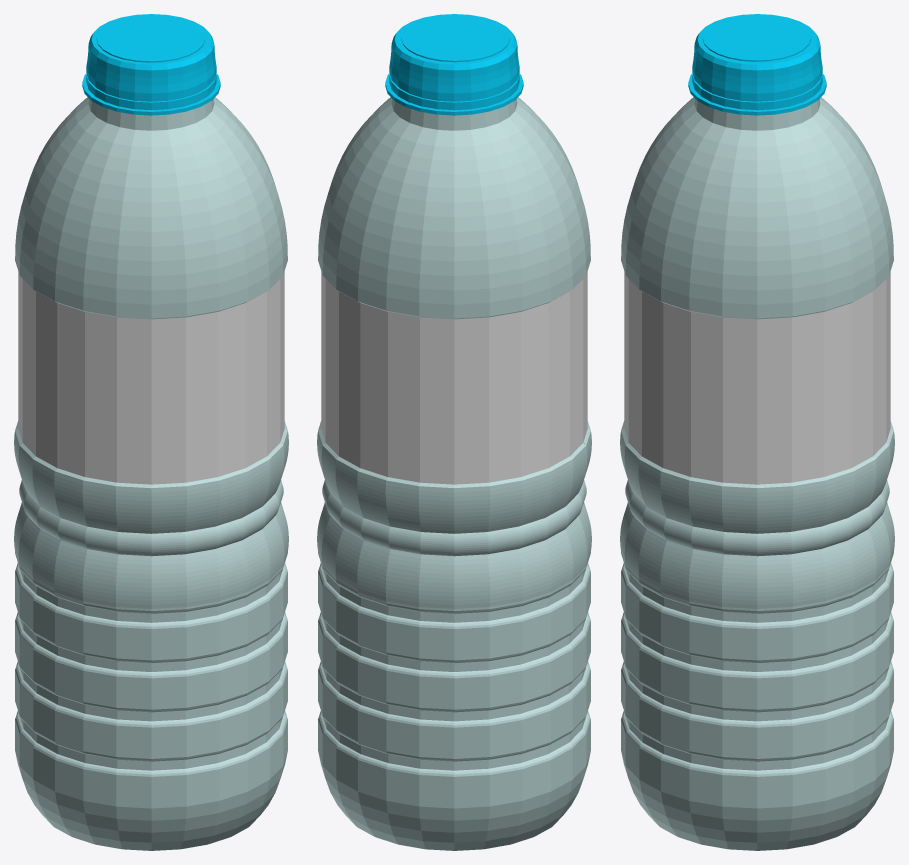
Rendered from bottle.glb.
3 renders of one model, left to right at view 1: azimuth 30°, elevation 25°; view 2: azimuth 150°, elevation 25°; view 3: azimuth 270°, elevation 25°, orthographic.
Visible parts, largest first — view 1: bottleBody, labelBody, bottleCap; view 2: bottleBody, labelBody, bottleCap; view 3: bottleBody, labelBody, bottleCap.
Part boxes in pixels (x1=…): bottleBody: x1=14, y1=97, x2=288, y2=850; labelBody: x1=18, y1=272, x2=284, y2=484; bottleCap: x1=82, y1=14, x2=220, y2=115; bottleBody: x1=317, y1=97, x2=591, y2=850; labelBody: x1=321, y1=272, x2=587, y2=484; bottleCap: x1=385, y1=14, x2=523, y2=115; bottleBody: x1=620, y1=97, x2=894, y2=850; labelBody: x1=624, y1=272, x2=890, y2=484; bottleCap: x1=688, y1=14, x2=826, y2=115.
Size of the model in its own units: 0.0672 by 0.2066 by 0.0672.
